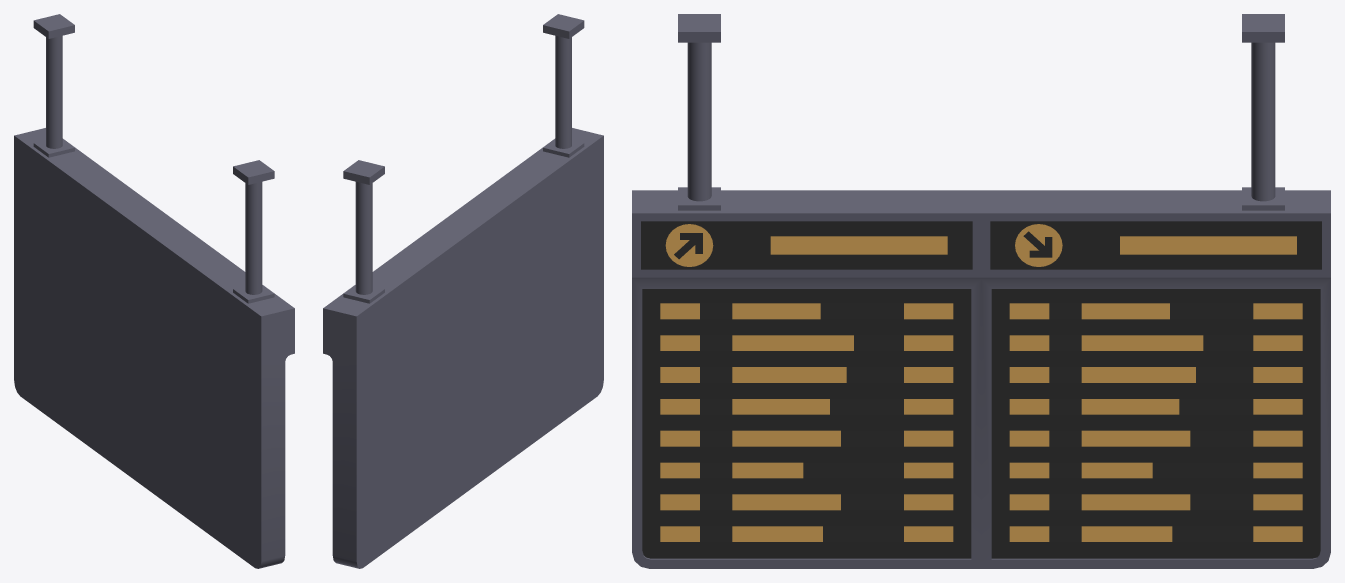
The model's file is airport-departure-sign.glb.
The picture shows the model from 3 angles, left to right: view 1: azimuth 30°, elevation 25°; view 2: azimuth 150°, elevation 25°; view 3: azimuth 270°, elevation 25°; orthographic projection. The views are drawn at different scales.
Visible parts, largest first — view 1: 16.DepartureSign_AIRPORT_0; view 2: 16.DepartureSign_AIRPORT_0; view 3: 16.DepartureSign_AIRPORT_0.
Boxes of the visible parts, x1,y1,x2,y2 form: 16.DepartureSign_AIRPORT_0: (14,14,294,568); 16.DepartureSign_AIRPORT_0: (323,14,603,568); 16.DepartureSign_AIRPORT_0: (632,14,1330,568).
Bounding box in the file's own units: 0.1504 × 1.64 × 1.92.
1 material, 1 textured.
